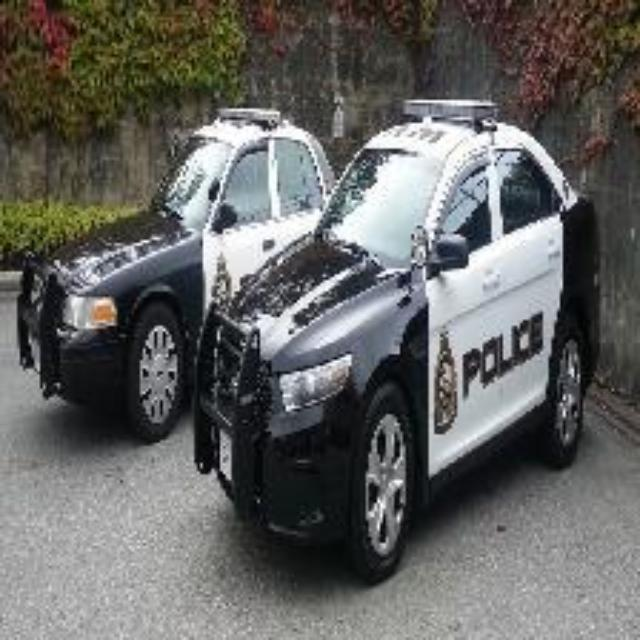emergency: (216, 97, 562, 535), (8, 122, 330, 412)
